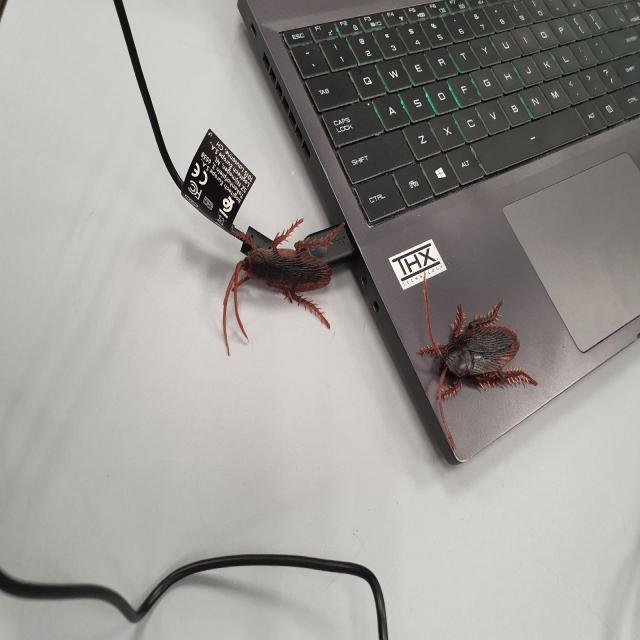Cockroach: (417, 268, 533, 438), (216, 212, 346, 344)
